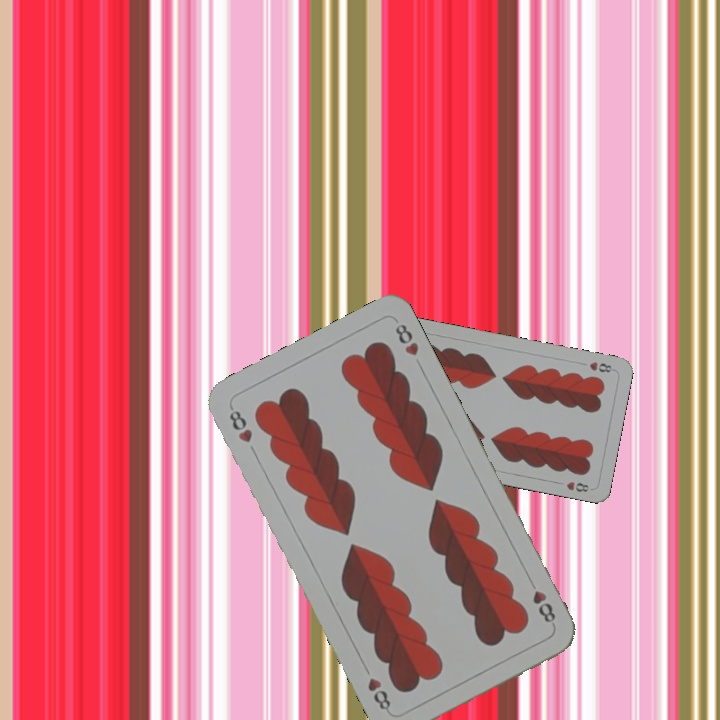H8: (225, 402, 255, 446), (528, 586, 559, 626), (585, 357, 617, 375)
